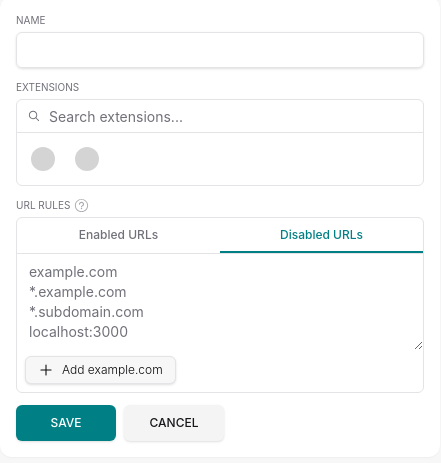
Scenario: GroupRules › shows rule precedence guidance in the URL rules help tooltip
This screenshot has width=441, height=463.
Expected: the button "Save" is shown, [16,405,116,441]
Focus the icon named "Help" at (82, 206), box [74,198,89,213]
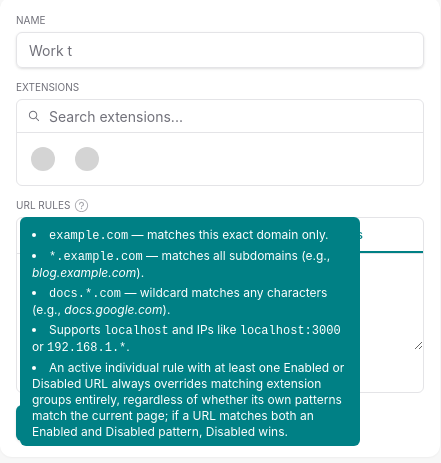
Expected: the list item "Disabled wins" is shown, [32,360,344,439]
